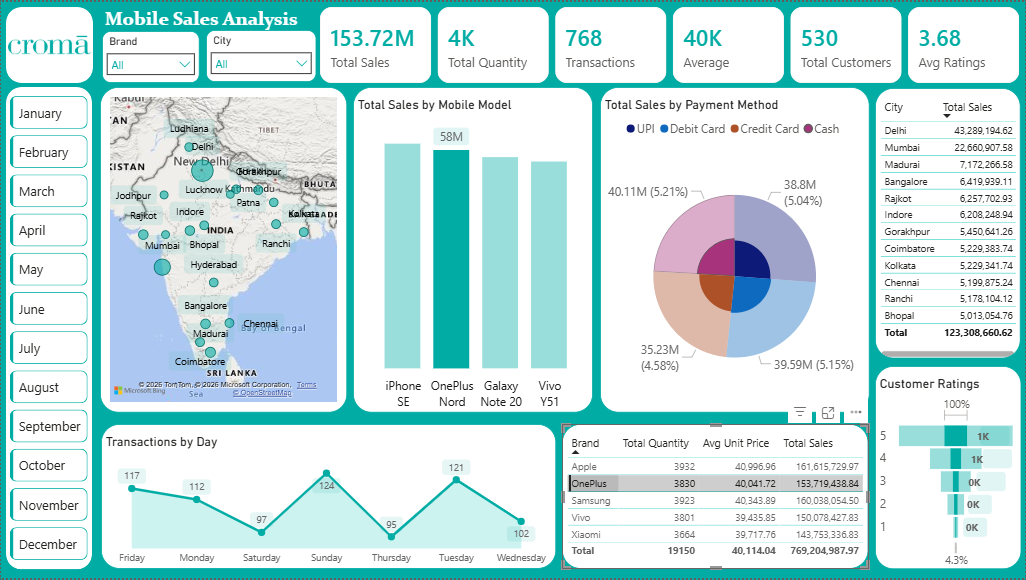

Layout of this report page (visuals, bound fields, positions):
{"tool":"powerbi","page":{"name":"Page 1","canvas":[1280,720],"ordinal":0},"visuals":[{"type":"shape","box":[5.6,6.2,108.8,95],"z":0},{"type":"image","box":[8.1,21.2,103.1,64.4],"z":1000},{"type":"shape","box":[6.7,105.8,107.6,603.1],"z":1000,"group":"g1"},{"type":"group","id":"g1","title":"Group 4","box":[6.7,105.8,107.6,603.1],"z":1001,"group":"g2"},{"type":"group","id":"g2","title":"Group 3","box":[6.7,105.8,108.3,603.3],"z":2000},{"type":"advancedSlicerVisual","fields":{"Values":["Croma Sales.Sale_Date.Variation.Date Hierarchy.Month"]},"box":[12.1,116.7,97.6,582.3],"z":2001,"group":"g1"},{"type":"cardVisual","fields":{"Data":["Croma Sales.Total Sales","Croma Sales.Total Quantity","Croma Sales.Transactions","Croma Sales.Average","Croma Sales.Total Customers","Croma Sales.Avg Ratings"]},"box":[399,6,875,95],"z":3000},{"type":"map","fields":{"Category":["Croma Sales.City"],"Size":["Croma Sales.Total Sales"]},"box":[123.3,106.7,308.9,406.7],"z":4000},{"type":"lineChart","title":"Transactions by Day","fields":{"Category":["Croma Sales.Day Name"],"Y":["Croma Sales.Transactions"]},"box":[124.7,528,568.7,180.7],"z":5000},{"type":"clusteredColumnChart","fields":{"Y":["Croma Sales.Total Sales"],"Category":["Croma Sales.Mobile Model"]},"box":[440,106.7,300,406.7],"z":6000},{"type":"pieChart","fields":{"Y":["Croma Sales.Total Sales"],"Category":["Croma Sales.Payment Method"]},"box":[748.3,106.7,336.7,406.7],"z":7000},{"type":"tableEx","fields":{"Values":["Croma Sales.Brand","Croma Sales.Total Quantity","Croma Sales.Avg Unit Price","Croma Sales.Total Sales"]},"box":[701.3,528,383.3,180.7],"z":8000},{"type":"funnel","title":"Customer Ratings","fields":{"Category":["Croma Sales.Customer Ratings"],"Y":["Sum(Croma Sales.Customer Ratings)"]},"box":[1092.3,454.6,183.1,253.8],"z":9000},{"type":"tableEx","fields":{"Values":["Croma Sales.City","Croma Sales.Total Sales"]},"box":[1092.3,106.9,182.3,338.5],"z":10000},{"type":"group","id":"g3","title":"Group 1","box":[125.6,35,267.5,66.2],"z":11000},{"type":"slicer","fields":{"Values":["Croma Sales.Brand"]},"box":[125.6,36,122,65],"z":11000,"group":"g3"},{"type":"textbox","box":[124.7,6,268.7,29.3],"z":12000},{"type":"slicer","fields":{"Values":["Croma Sales.City"]},"box":[255.6,35,138,65],"z":13000,"group":"g3"}]}

Visuals, with their boxes in screenshot pixels (x1, y1, x2, y2), scaled from the page's 1280x720 canvas onto the 1026x580 screenshot:
shape: bbox(4, 5, 92, 82)
image: bbox(6, 17, 89, 69)
shape: bbox(5, 85, 92, 571)
"Group 4" group: bbox(5, 85, 92, 571)
"Group 3" group: bbox(5, 85, 92, 571)
advancedSlicerVisual - Croma Sales.Sale_Date.Variation.Date Hierarchy.Month: bbox(10, 94, 88, 563)
cardVisual - Croma Sales.Total Sales x Croma Sales.Total Quantity: bbox(320, 5, 1021, 81)
map - Croma Sales.City x Croma Sales.Total Sales: bbox(99, 86, 346, 414)
"Transactions by Day" lineChart: bbox(100, 425, 556, 571)
clusteredColumnChart - Croma Sales.Total Sales x Croma Sales.Mobile Model: bbox(353, 86, 593, 414)
pieChart - Croma Sales.Total Sales x Croma Sales.Payment Method: bbox(600, 86, 870, 414)
tableEx - Croma Sales.Brand x Croma Sales.Total Quantity: bbox(562, 425, 869, 571)
"Customer Ratings" funnel: bbox(876, 366, 1022, 571)
tableEx - Croma Sales.City x Croma Sales.Total Sales: bbox(876, 86, 1022, 359)
"Group 1" group: bbox(101, 28, 315, 82)
slicer - Croma Sales.Brand: bbox(101, 29, 198, 81)
textbox: bbox(100, 5, 315, 28)
slicer - Croma Sales.City: bbox(205, 28, 315, 81)
